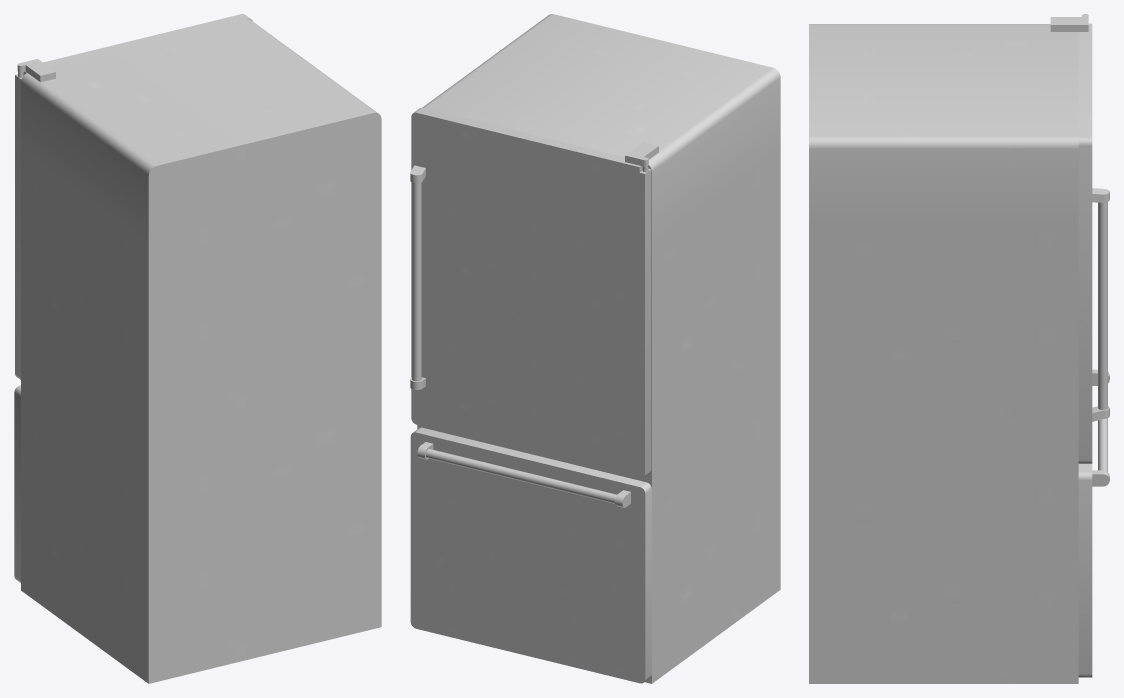
File: Refrigerator01.glb
3 views of the same model, side by side, from view 1: azimuth 30°, elevation 25°; view 2: azimuth 150°, elevation 25°; view 3: azimuth 270°, elevation 25° (orthographic). The views are drawn at different scales.
Visible parts, largest first — view 1: Refrigerator01_model, Refrigerator01_Door01, Refrigerator01_Door02; view 2: Refrigerator01_model, Refrigerator01_Door01, Refrigerator01_Door02; view 3: Refrigerator01_model, Refrigerator01_Door01, Refrigerator01_Door02.
Part boxes in pixels (x1,y1,x2,y2): Refrigerator01_model: (17,19,381,683); Refrigerator01_Door01: (15,14,252,379); Refrigerator01_Door02: (14,385,20,582); Refrigerator01_model: (417,14,780,683); Refrigerator01_Door01: (410,108,651,479); Refrigerator01_Door02: (410,427,651,683); Refrigerator01_model: (809,14,1088,683); Refrigerator01_Door01: (1078,23,1109,463); Refrigerator01_Door02: (1078,369,1109,677).
Size of the model in its own units: 1.78 by 3.83 by 1.9.
Materials: 1 (1 with a texture image).
